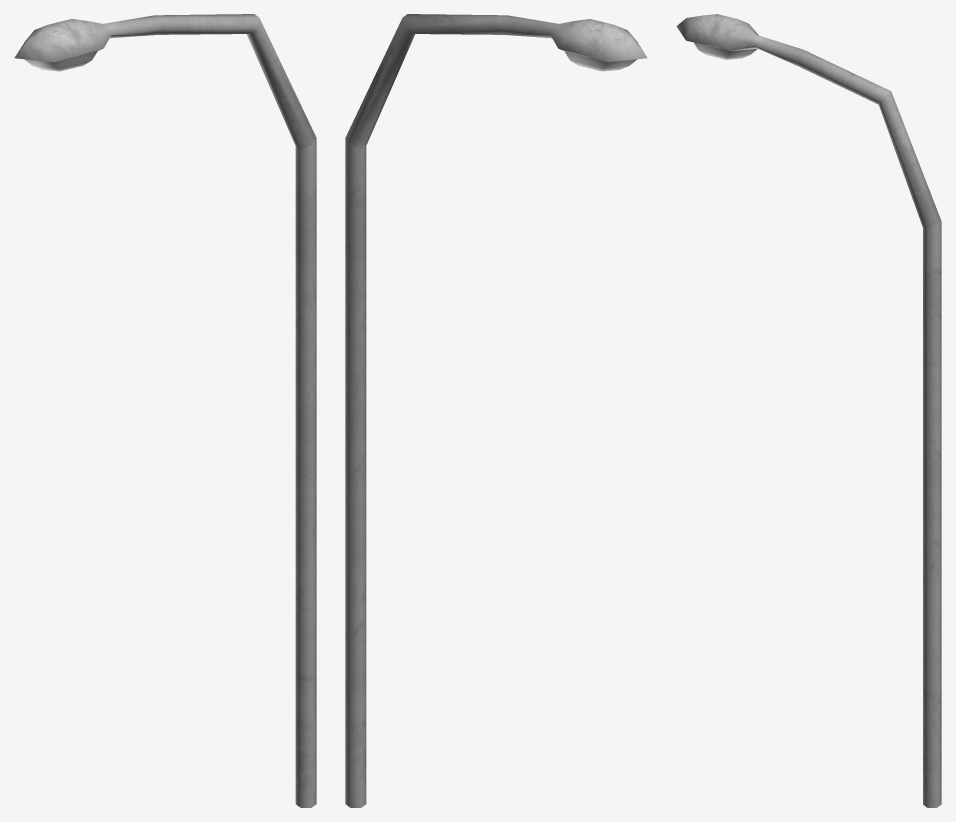
Rendered from streetlight.fbx.
3 views of the same model, side by side, from view 1: azimuth 30°, elevation 25°; view 2: azimuth 150°, elevation 25°; view 3: azimuth 330°, elevation 25° (orthographic). The views are drawn at different scales.
Visible parts, largest first — view 1: streetlight; view 2: streetlight; view 3: streetlight.
Part boxes in pixels (box(x1,y1,x2,y2)): streetlight: box(14, 14, 316, 807); streetlight: box(345, 14, 647, 807); streetlight: box(676, 14, 941, 807).
Size of the model in its own units: 211 by 563 by 35.14.
Materials: 1 (1 with a texture image).
